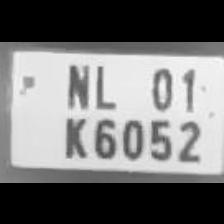0: (146, 60, 174, 110), (117, 112, 145, 160)
1: (177, 64, 201, 110)
2: (174, 116, 204, 162)
5: (146, 114, 174, 160)
6: (88, 110, 116, 160)
K: (58, 108, 88, 160)
L: (90, 56, 119, 108)
N: (60, 58, 90, 110)
